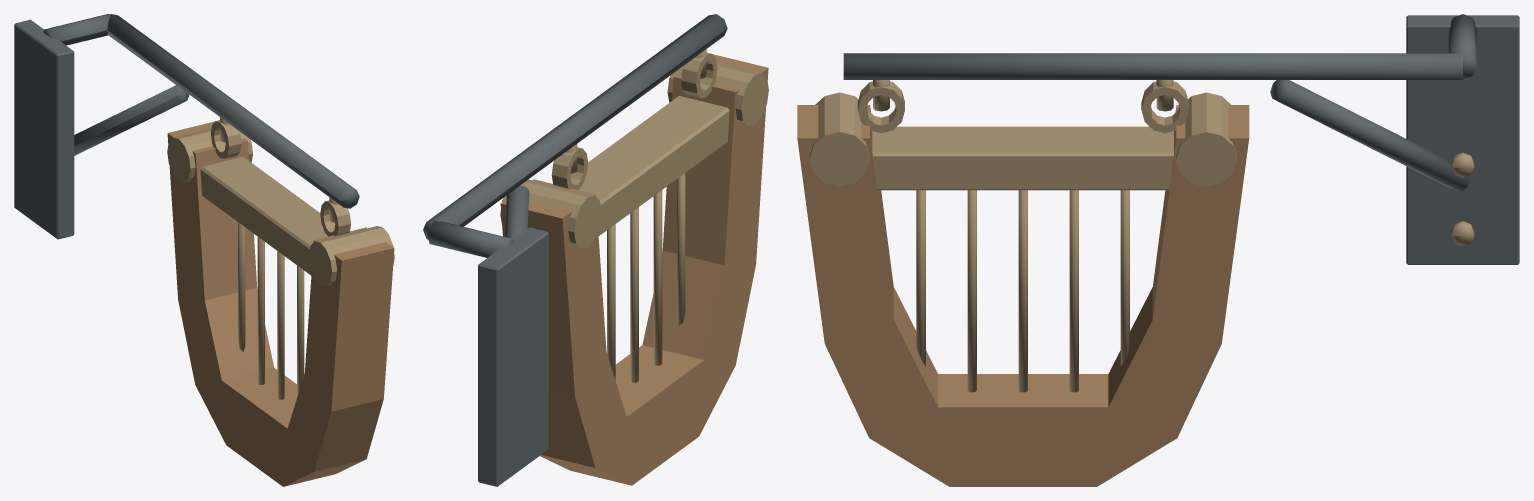
File: yokocho-bard-lyre-sign.glb
3 views of the same model, side by side, from view 1: azimuth 30°, elevation 25°; view 2: azimuth 150°, elevation 25°; view 3: azimuth 270°, elevation 25° (orthographic). The views are drawn at different scales.
Visible parts, largest first — view 1: Shops/S07/ProjectingSigns/BardLyreAssembly__Night_Walnut, Shops/S07/ProjectingSigns/BardLyreAssembly__Iron, Shops/S07/ProjectingSigns/BardLyreAssembly__Bronze; view 2: Shops/S07/ProjectingSigns/BardLyreAssembly__Night_Walnut, Shops/S07/ProjectingSigns/BardLyreAssembly__Iron, Shops/S07/ProjectingSigns/BardLyreAssembly__Bronze; view 3: Shops/S07/ProjectingSigns/BardLyreAssembly__Night_Walnut, Shops/S07/ProjectingSigns/BardLyreAssembly__Iron, Shops/S07/ProjectingSigns/BardLyreAssembly__Bronze.
Part boxes in pixels (x1,y1,x2,y2): Shops/S07/ProjectingSigns/BardLyreAssembly__Night_Walnut: (167,121,394,486); Shops/S07/ProjectingSigns/BardLyreAssembly__Iron: (14,14,359,239); Shops/S07/ProjectingSigns/BardLyreAssembly__Bronze: (167,117,394,399); Shops/S07/ProjectingSigns/BardLyreAssembly__Night_Walnut: (500,54,768,485); Shops/S07/ProjectingSigns/BardLyreAssembly__Iron: (423,14,727,486); Shops/S07/ProjectingSigns/BardLyreAssembly__Bronze: (500,49,768,382); Shops/S07/ProjectingSigns/BardLyreAssembly__Night_Walnut: (797,105,1249,486); Shops/S07/ProjectingSigns/BardLyreAssembly__Iron: (843,14,1519,264); Shops/S07/ProjectingSigns/BardLyreAssembly__Bronze: (809,80,1474,392).
Bounding box in the file's own units: 0.1695 × 0.486 × 0.764.
